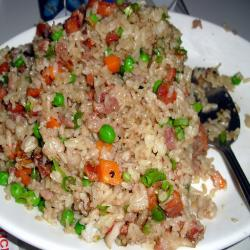rice: (4, 16, 221, 239)
